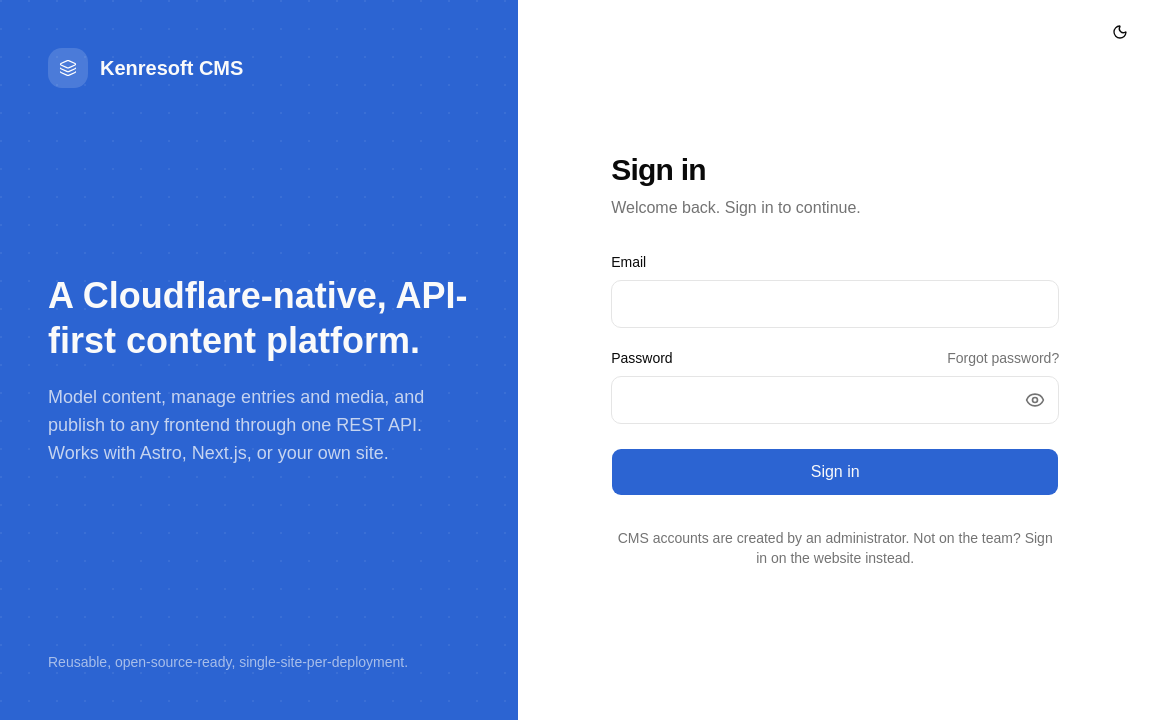
Test case: LoginPage › tells the user their browser blocked the session cookie instead of failing silently
The width and height of the screenshot is (1152, 720).
Type "user@example.test" into the field labelled "Email". click: point(835, 304)
box: [611, 280, 1059, 328]
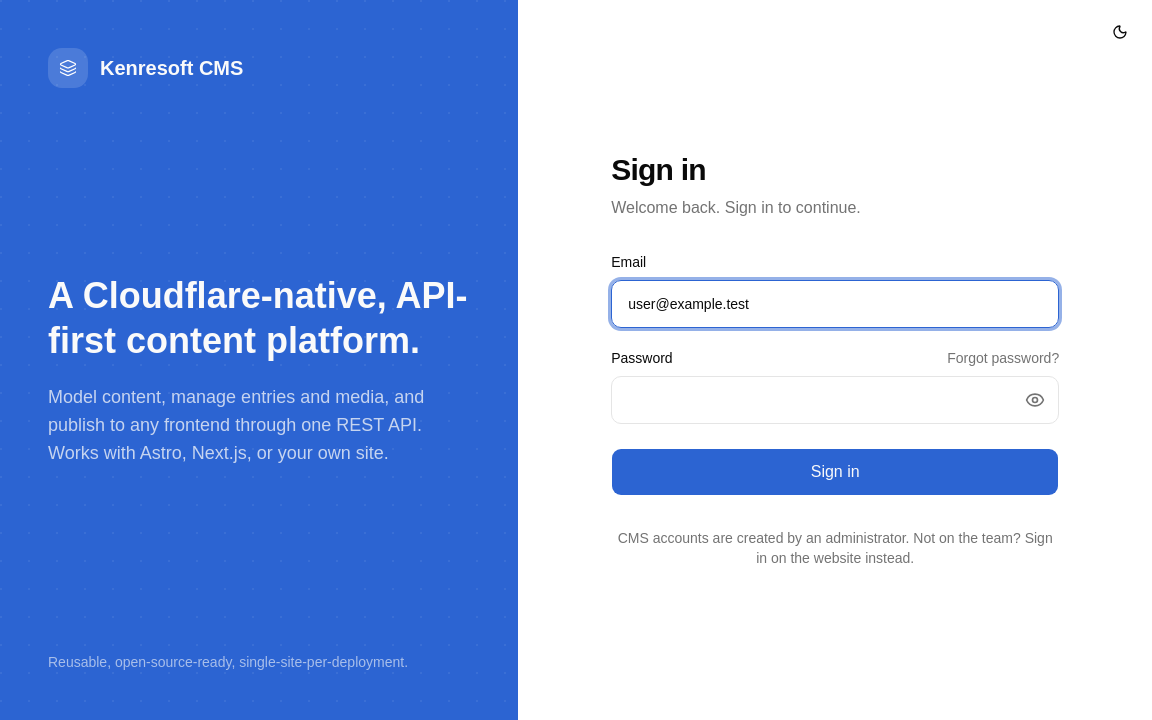
Type "correct horse battery staple" into the password field labelled "Password". click: point(835, 400)
box: [611, 376, 1059, 424]
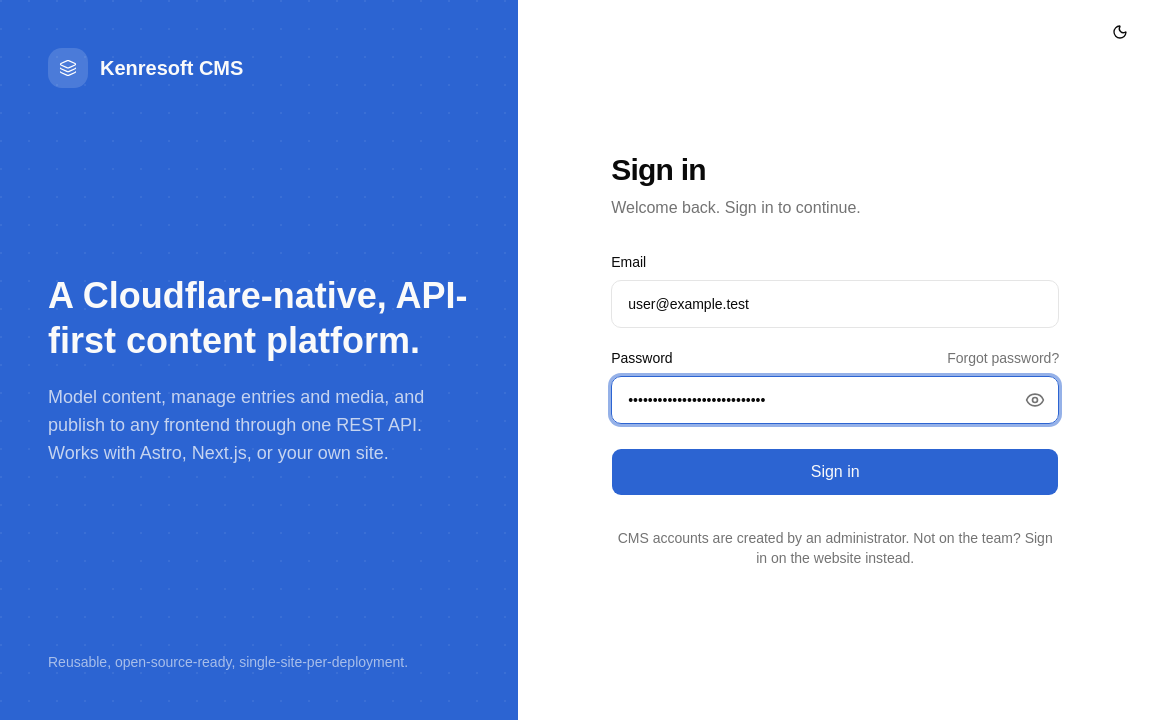
Click the button "Sign in". click: point(835, 472)
box: [611, 448, 1059, 496]
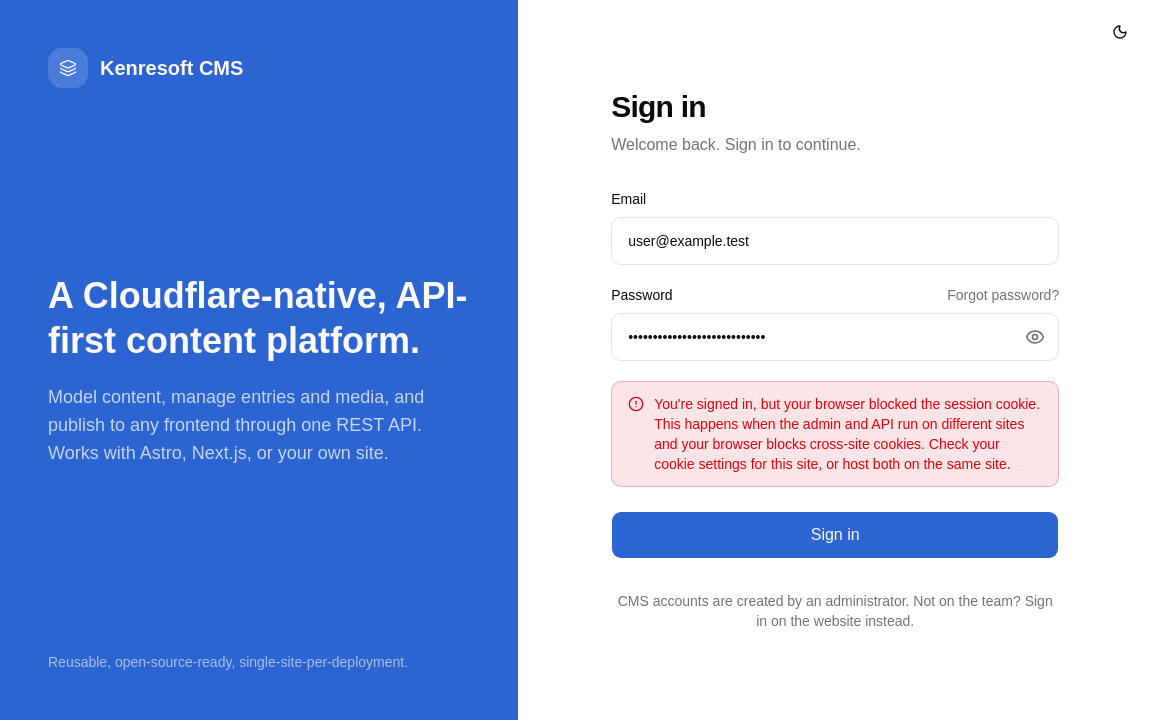
expect the button "Sign in" is enabled: met, box [611, 511, 1059, 559]
expect the text "your browser blocked the session cookie" is shown: met, box [654, 396, 1040, 472]
